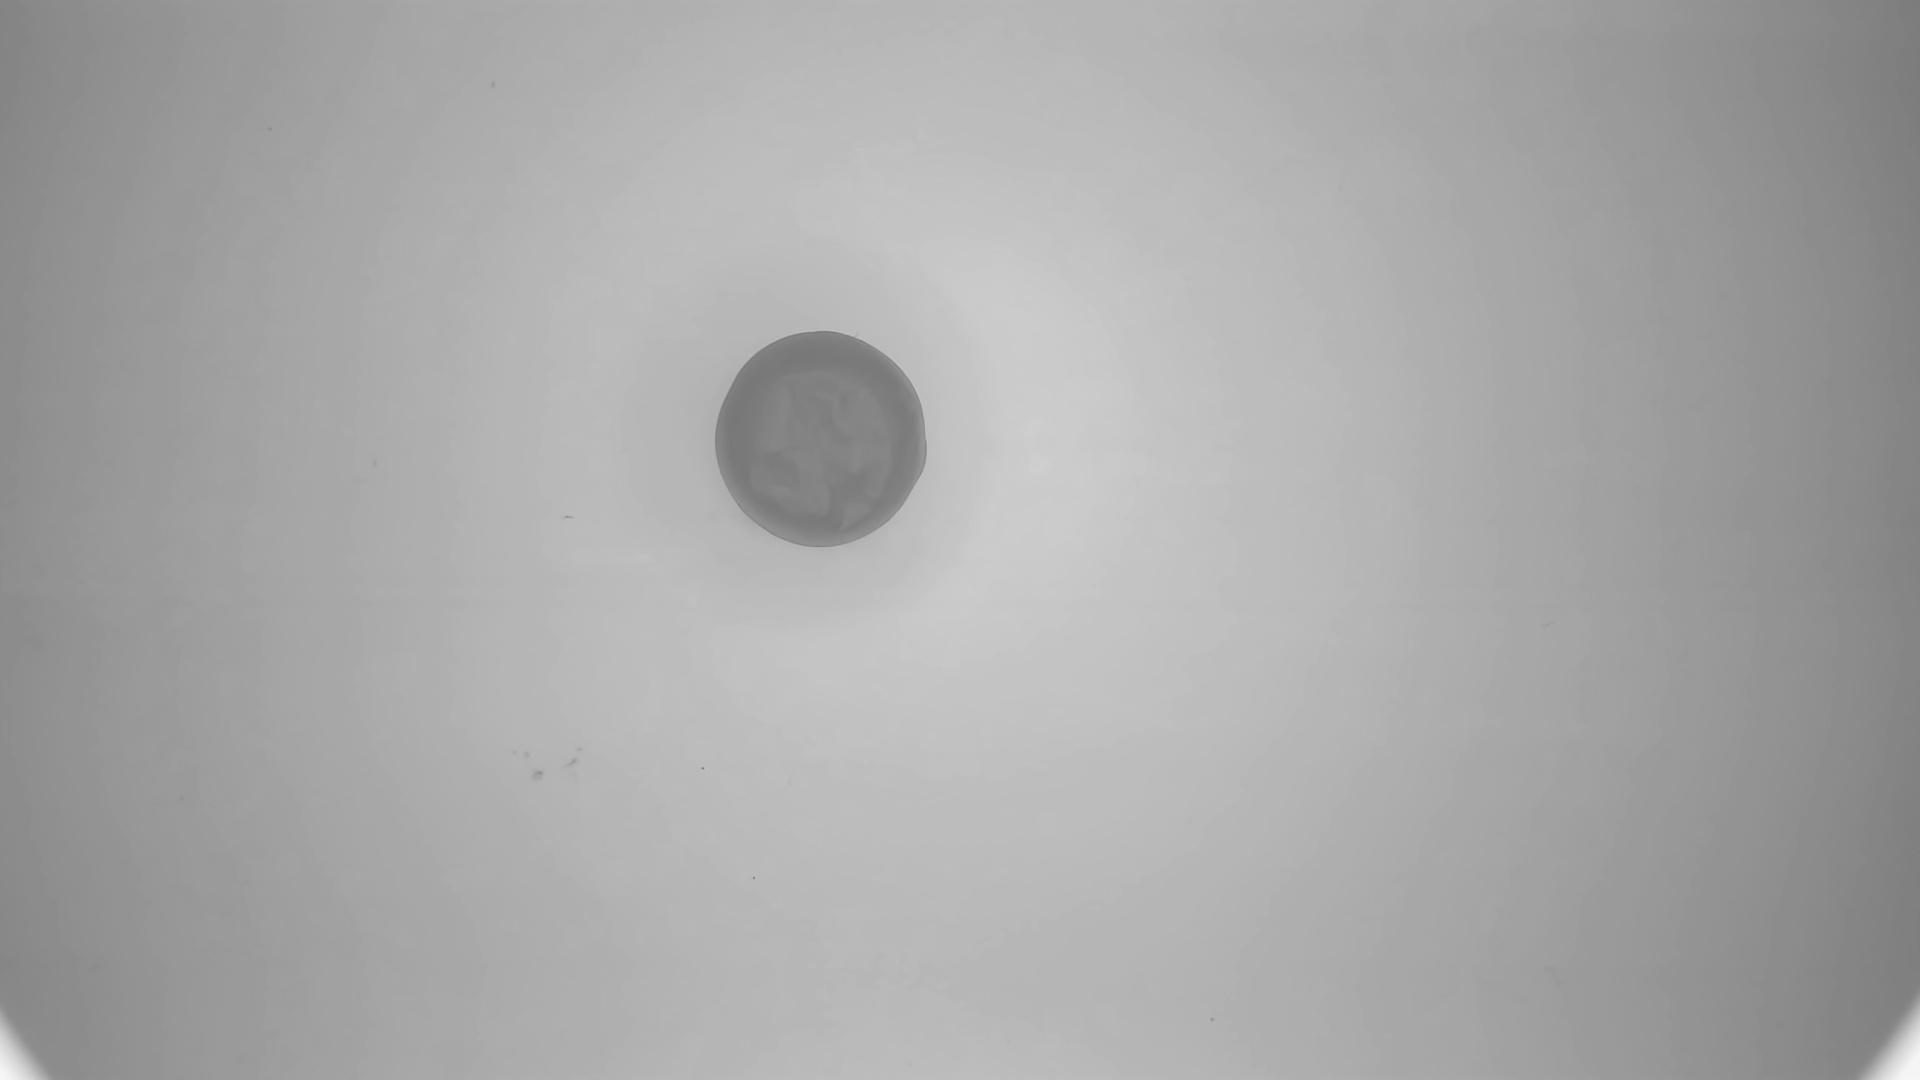abnormal: (713, 328, 932, 551)
